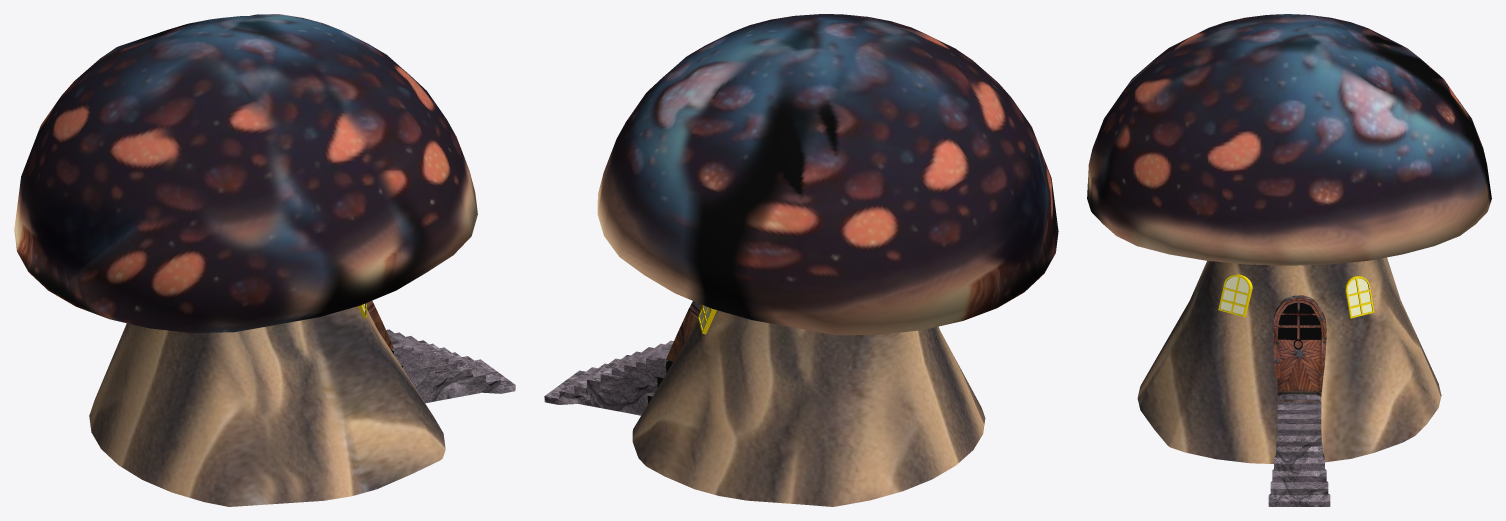
Rendered from Mushroom_House_Witch.fbx.
The picture shows the model from 3 angles, left to right: view 1: azimuth 30°, elevation 25°; view 2: azimuth 150°, elevation 25°; view 3: azimuth 270°, elevation 25°; orthographic projection. The views are drawn at different scales.
Parts seen in each view (by area): view 1: Seta casa; view 2: Seta casa; view 3: Seta casa.
Boxes of the visible parts, box(x1,y1,x2,y2) form: Seta casa: box(14, 14, 515, 506); Seta casa: box(544, 14, 1058, 506); Seta casa: box(1087, 14, 1491, 506).
Bounding box in the file's own units: 762 × 655 × 665.
